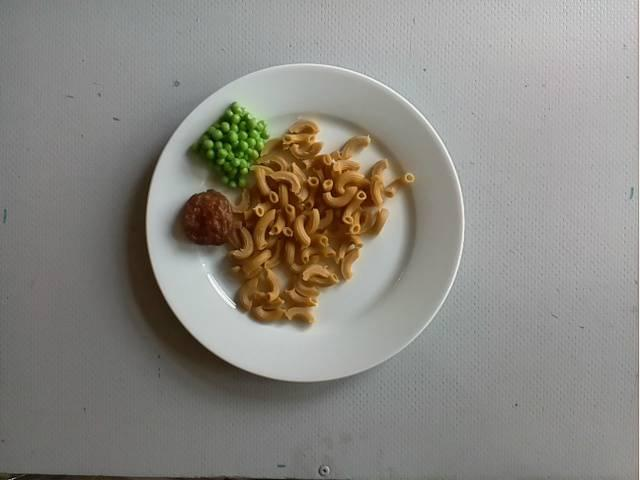Full grain pasta + peas + meatball: (180, 101, 391, 323)
